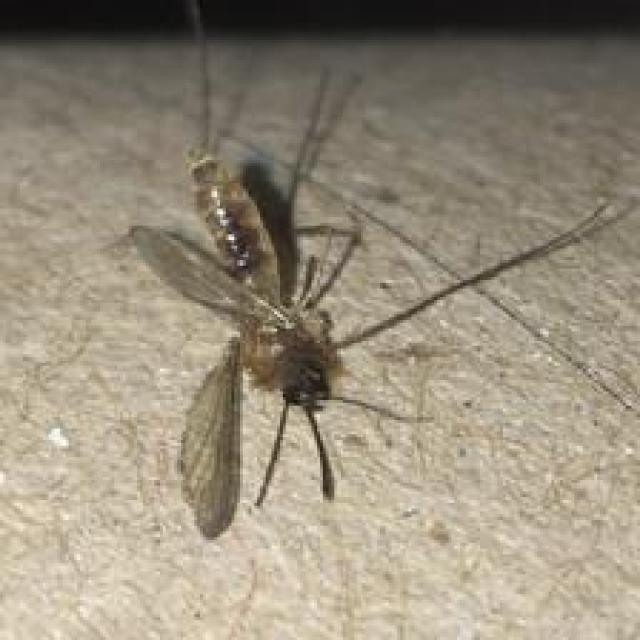Culex: (120, 0, 640, 543)
